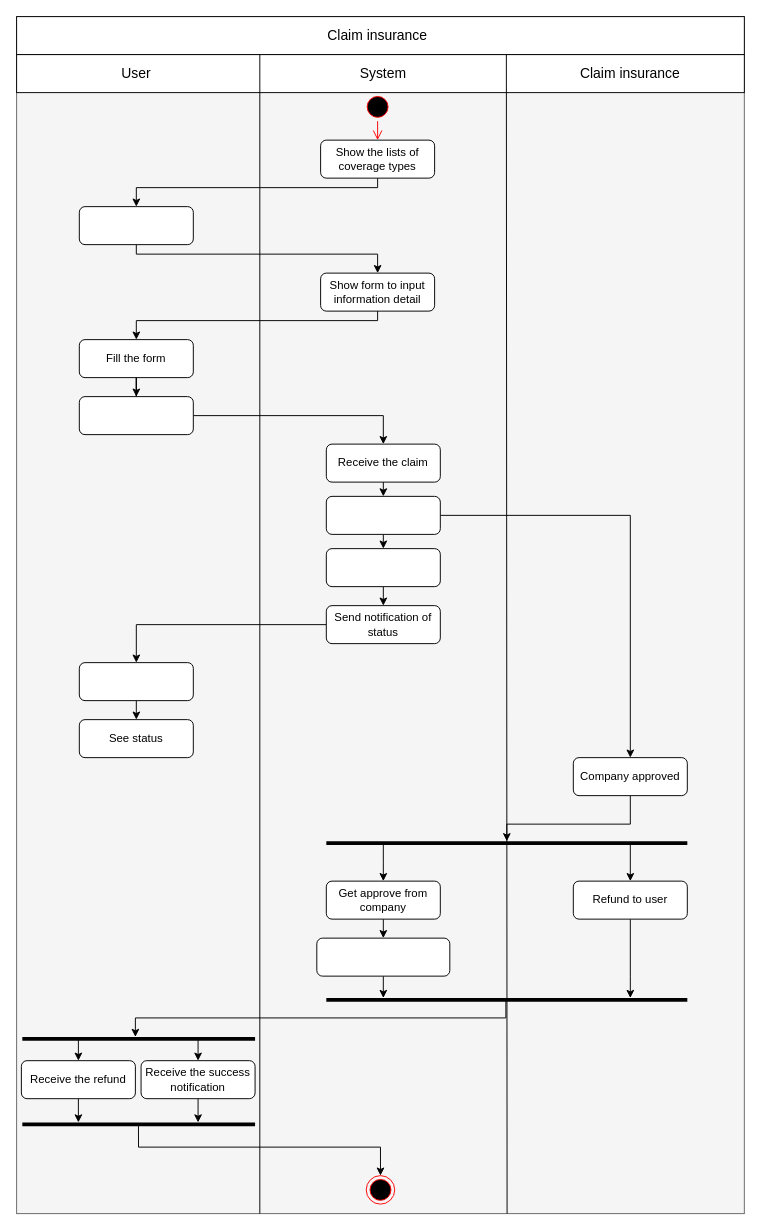
The diagram is 761 pixels wide and 1231 high, and some of its shapes have lost their labels. Each missing label, with the centre of its shape:
Receive notification: the point at 135,681
Select type of coverage: the point at 135,225
Send notification to user for succeeded payment: the point at 383,956
Send the claim to company: the point at 382,514
Show status: the point at 382,567
Upload claim evidence: the point at 135,415
